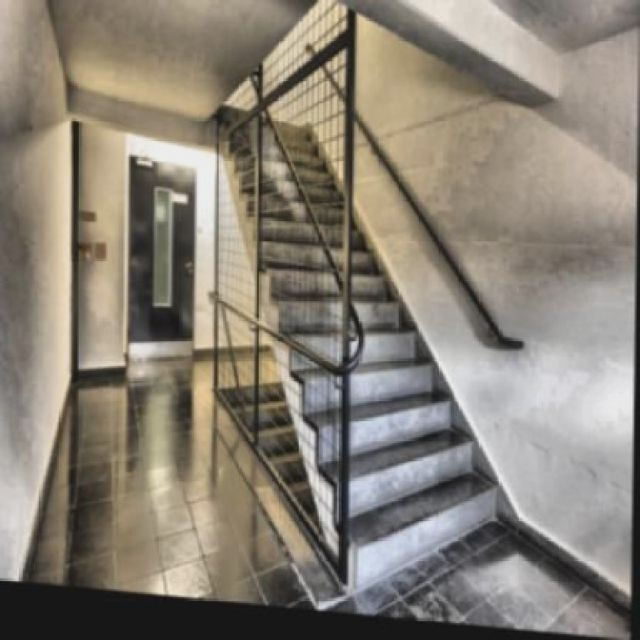stair: (254, 57, 497, 577)
